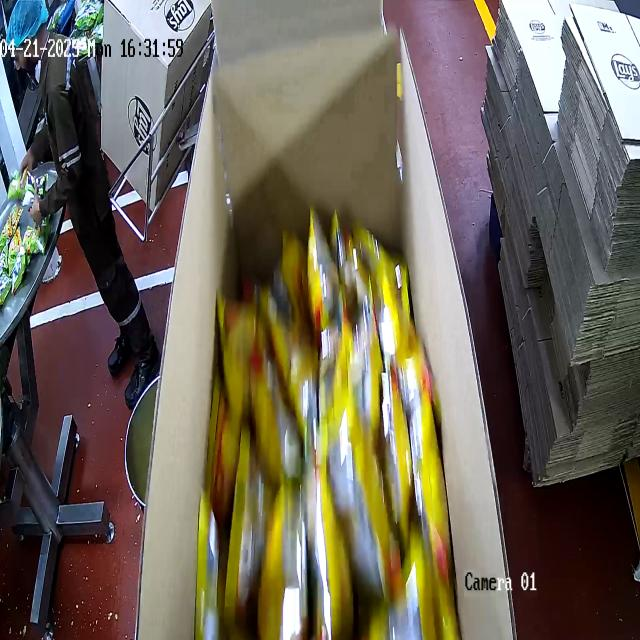SALTED: (200, 204, 460, 640)
